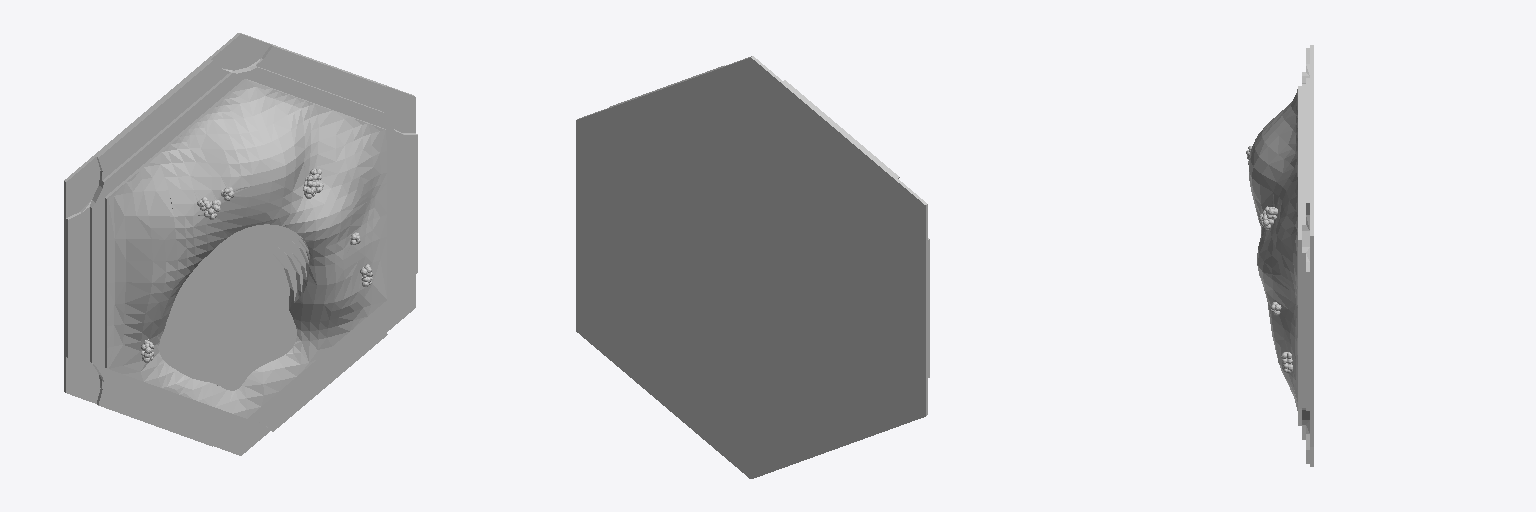
Rendered from Brick1_Ver2_Rev2.obj.
The picture shows the model from 3 angles: view 1: azimuth 30°, elevation 25°; view 2: azimuth 150°, elevation 25°; view 3: azimuth 270°, elevation 25°; orthographic projection.
Parts seen in each view (by area): view 1: <STL_BINARY>; view 2: <STL_BINARY>; view 3: <STL_BINARY>.
Part boxes in pixels (bbox=[...]): <STL_BINARY>: bbox=[64, 33, 417, 455]; <STL_BINARY>: bbox=[576, 56, 929, 478]; <STL_BINARY>: bbox=[1246, 45, 1313, 466].
Bounding box in the file's own units: 79.08 × 91.31 × 13.4.